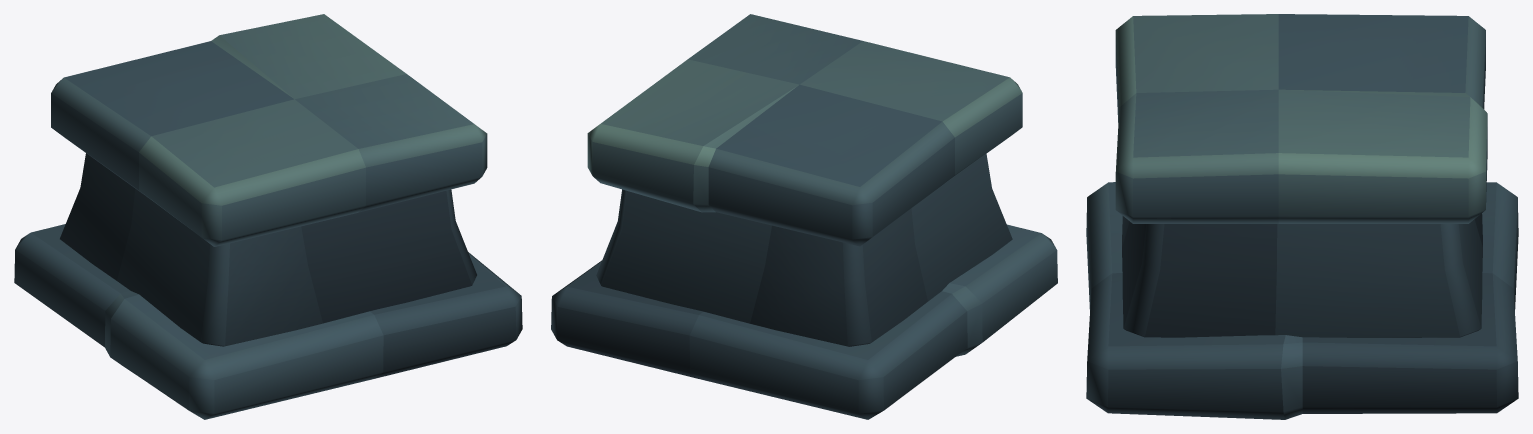
The model's file is pillar_fat_bottom.fbx.
The picture shows the model from 3 angles, left to right: view 1: azimuth 30°, elevation 25°; view 2: azimuth 150°, elevation 25°; view 3: azimuth 270°, elevation 25°; orthographic projection. The views are drawn at different scales.
Visible parts, largest first — view 1: pillar_fat_bottom; view 2: pillar_fat_bottom; view 3: pillar_fat_bottom.
Boxes of the visible parts, <box> form: pillar_fat_bottom: <box>14,14,522,419</box>; pillar_fat_bottom: <box>551,14,1057,419</box>; pillar_fat_bottom: <box>1086,14,1518,419</box>.
Bounding box in the file's own units: 170 × 109 × 168.
